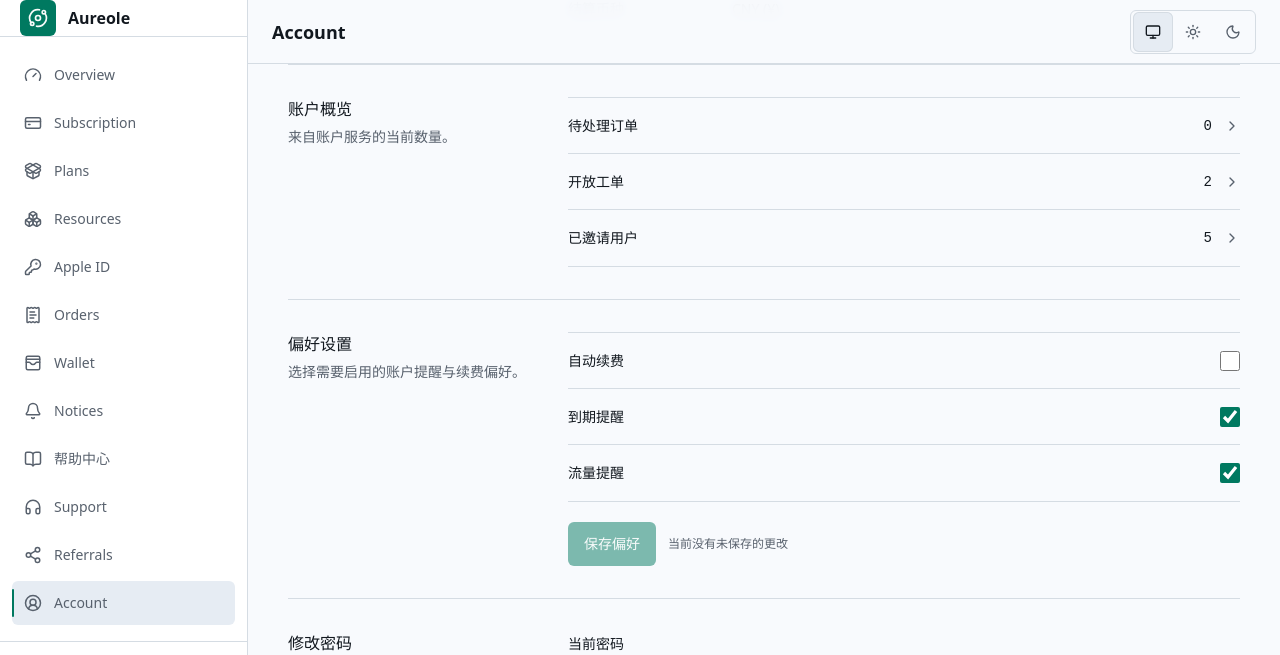
Scenario: Account self-service › reconciles an ambiguous preference 0/NETWORK_ERROR without retrying PATCH
(page scrolled)
Click the checkbox labelled "自动续费".
click(1230, 360)  # box [1220,350,1240,370]
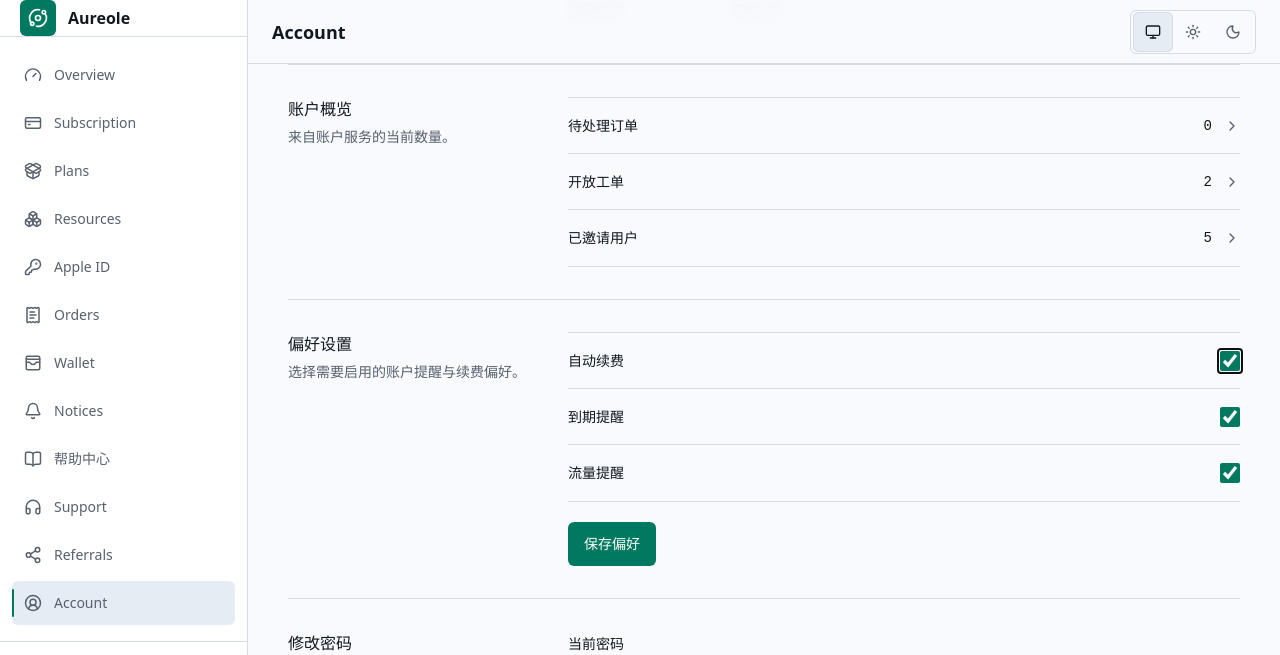
Click the button "保存偏好".
click(612, 544)  # box [568,522,656,566]
(page scrolled)
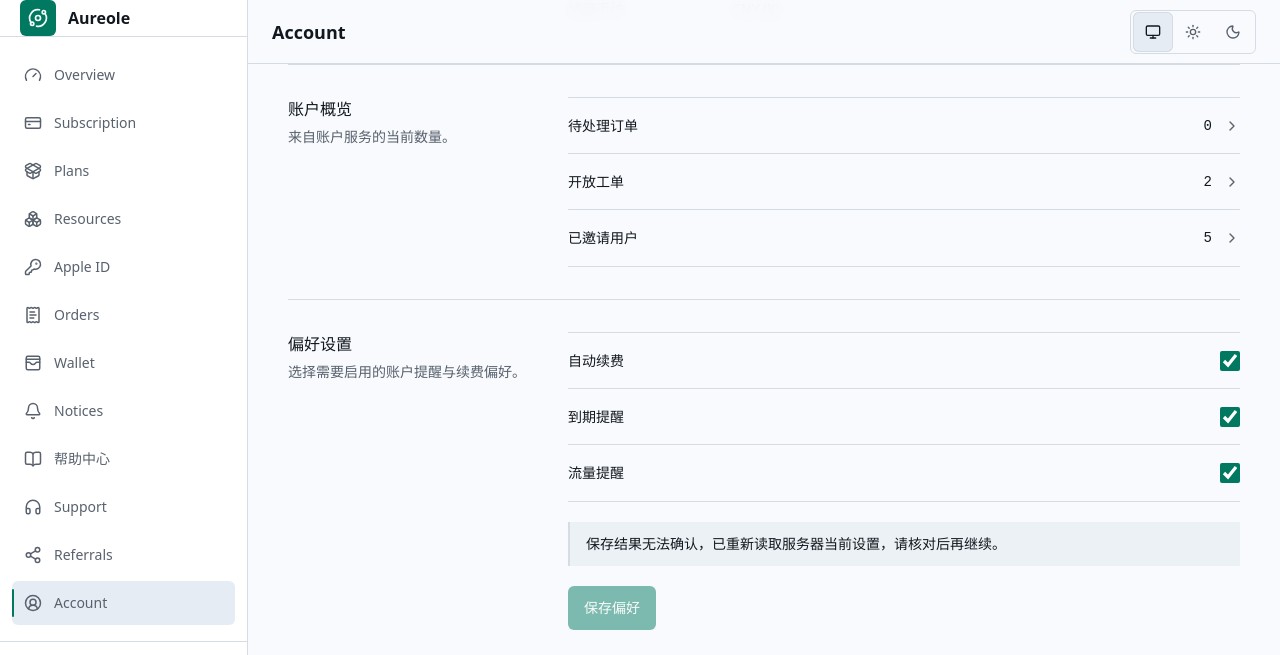
Expected: the checkbox labelled "自动续费" is checked, [1220,350,1240,370]
Expected: the text "保存结果无法确认，已重新读取服务器当前设置，请核对后再继续。" is shown, [586,534,1006,553]
